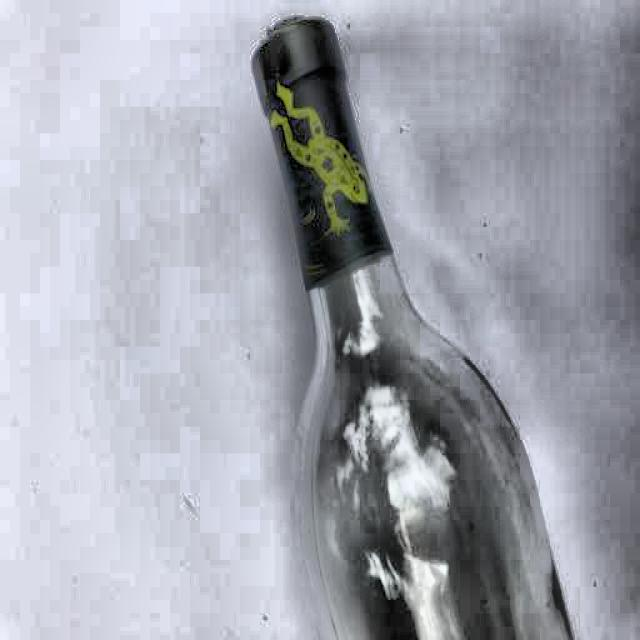glass: (257, 16, 591, 640)
